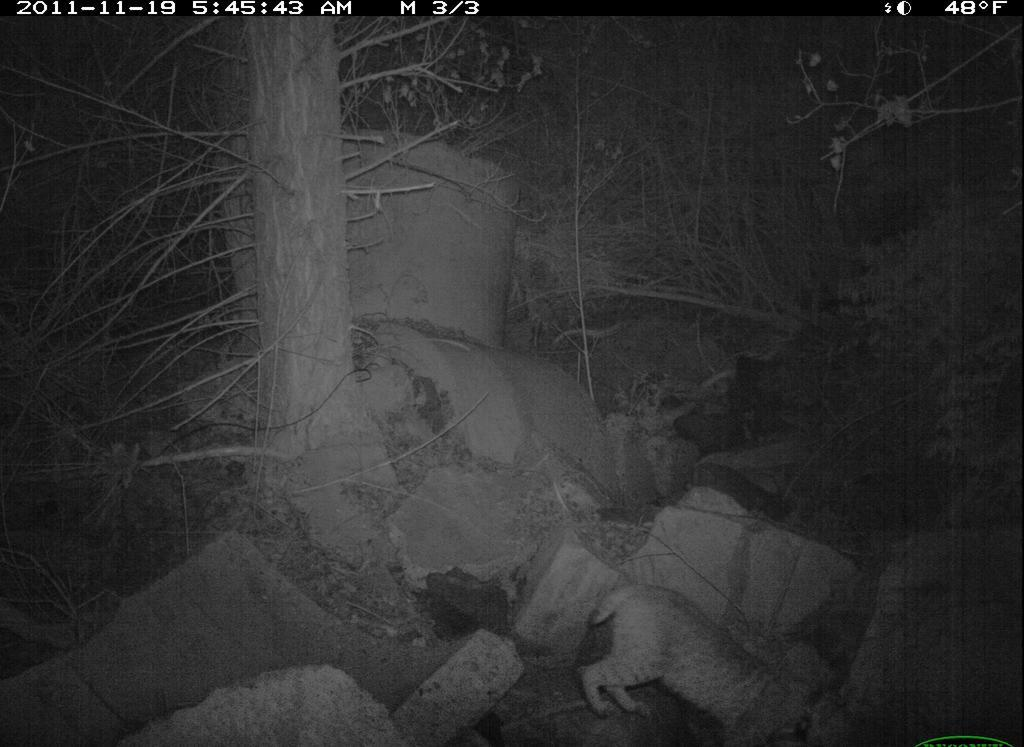bobcat: (569, 561, 826, 747)
